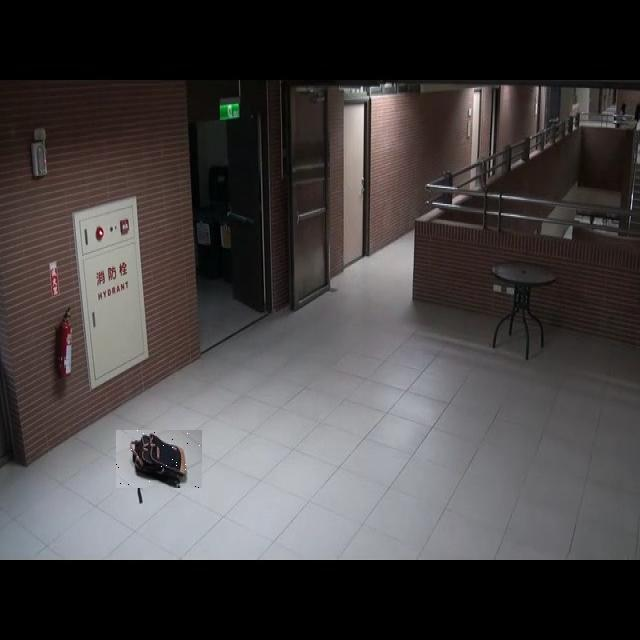abandoned-object: (116, 430, 202, 488)
